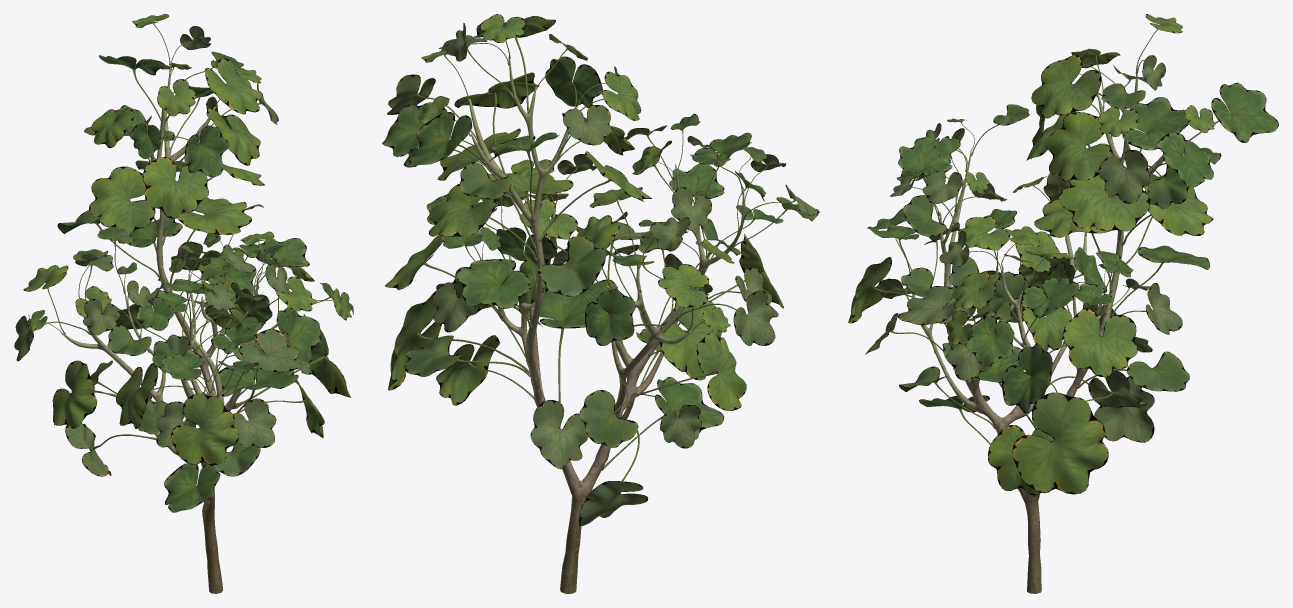
File: broadleaf-foliage.glb
The picture shows the model from 3 angles, left to right: view 1: azimuth 30°, elevation 25°; view 2: azimuth 150°, elevation 25°; view 3: azimuth 270°, elevation 25°; orthographic projection. The views are drawn at different scales.
Visible parts, largest first — view 1: potted_plant_01_leaves, potted_plant_01_stem; view 2: potted_plant_01_leaves, potted_plant_01_stem; view 3: potted_plant_01_leaves, potted_plant_01_stem.
Boxes of the visible parts, x1,y1,x2,y2 form: potted_plant_01_leaves: [14, 14, 353, 512]; potted_plant_01_stem: [62, 63, 293, 593]; potted_plant_01_leaves: [382, 14, 819, 526]; potted_plant_01_stem: [468, 58, 744, 593]; potted_plant_01_leaves: [848, 14, 1278, 495]; potted_plant_01_stem: [912, 65, 1178, 593].
Bounding box in the file's own units: 0.6347 × 1 × 0.6846.
2 materials, 2 textured.
